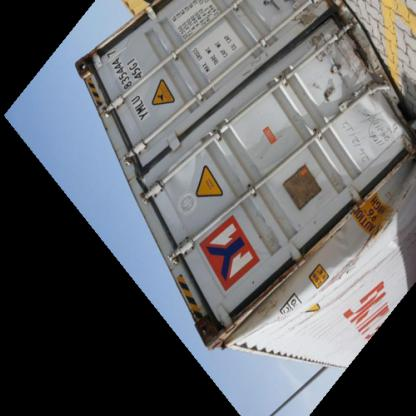Damage: (182, 206, 388, 340), (276, 3, 375, 81), (334, 95, 396, 159)
